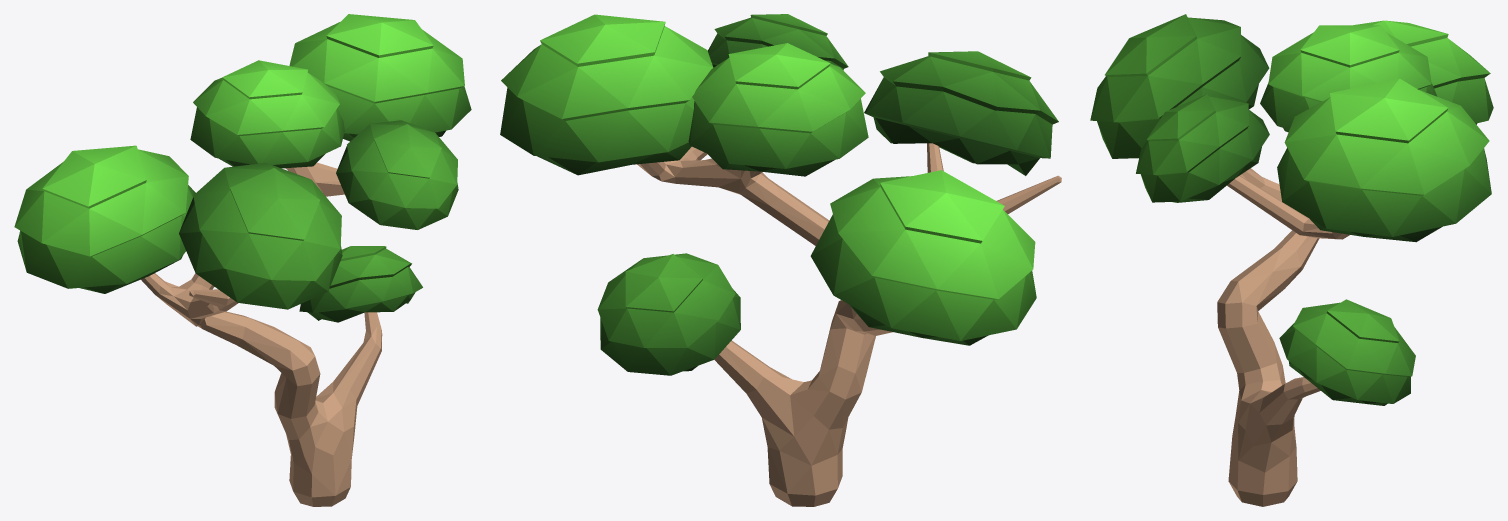
The model's file is New_Tree2.fbx.
3 views of the same model, side by side, from view 1: azimuth 30°, elevation 25°; view 2: azimuth 150°, elevation 25°; view 3: azimuth 270°, elevation 25° (orthographic). The views are drawn at different scales.
Parts seen in each view (by area): view 1: Leaves.010, Leaves.007, Cube.001, Leaves.008, Leaves.006, Leaves.009, Leaves.011; view 2: Leaves.010, Leaves.008, Cube.001, Leaves.006, Leaves.007, Leaves.011, Leaves.009; view 3: Leaves.008, Cube.001, Leaves.007, Leaves.011, Leaves.009, Leaves.006, Leaves.010.
Boxes of the visible parts, bbox=[...] form: Leaves.010: bbox=[14, 145, 195, 293]; Leaves.007: bbox=[179, 163, 342, 309]; Cube.001: bbox=[141, 162, 382, 506]; Leaves.008: bbox=[289, 14, 471, 141]; Leaves.006: bbox=[190, 60, 344, 168]; Leaves.009: bbox=[336, 120, 458, 229]; Leaves.011: bbox=[299, 246, 422, 322]; Leaves.010: bbox=[810, 170, 1036, 345]; Leaves.008: bbox=[500, 14, 713, 175]; Cube.001: bbox=[637, 143, 1061, 506]; Leaves.006: bbox=[688, 43, 868, 176]; Leaves.007: bbox=[864, 51, 1058, 175]; Leaves.011: bbox=[597, 253, 740, 375]; Leaves.009: bbox=[708, 14, 848, 70]; Leaves.008: bbox=[1277, 78, 1491, 242]; Cube.001: bbox=[1217, 168, 1349, 506]; Leaves.007: bbox=[1090, 14, 1269, 158]; Leaves.011: bbox=[1279, 299, 1415, 405]; Leaves.009: bbox=[1136, 94, 1269, 202]; Leaves.006: bbox=[1260, 25, 1437, 132]; Leaves.010: bbox=[1353, 20, 1493, 124].
Size of the model in its own units: 409 by 378 by 296.
2 materials, 1 textured.
